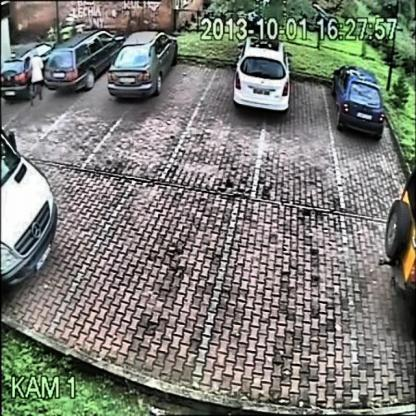free: (252, 239, 344, 387), (107, 214, 193, 366)
occupied: (0, 118, 64, 300), (235, 34, 294, 118), (333, 63, 394, 144), (113, 29, 174, 106), (48, 32, 103, 96), (0, 42, 46, 103)
